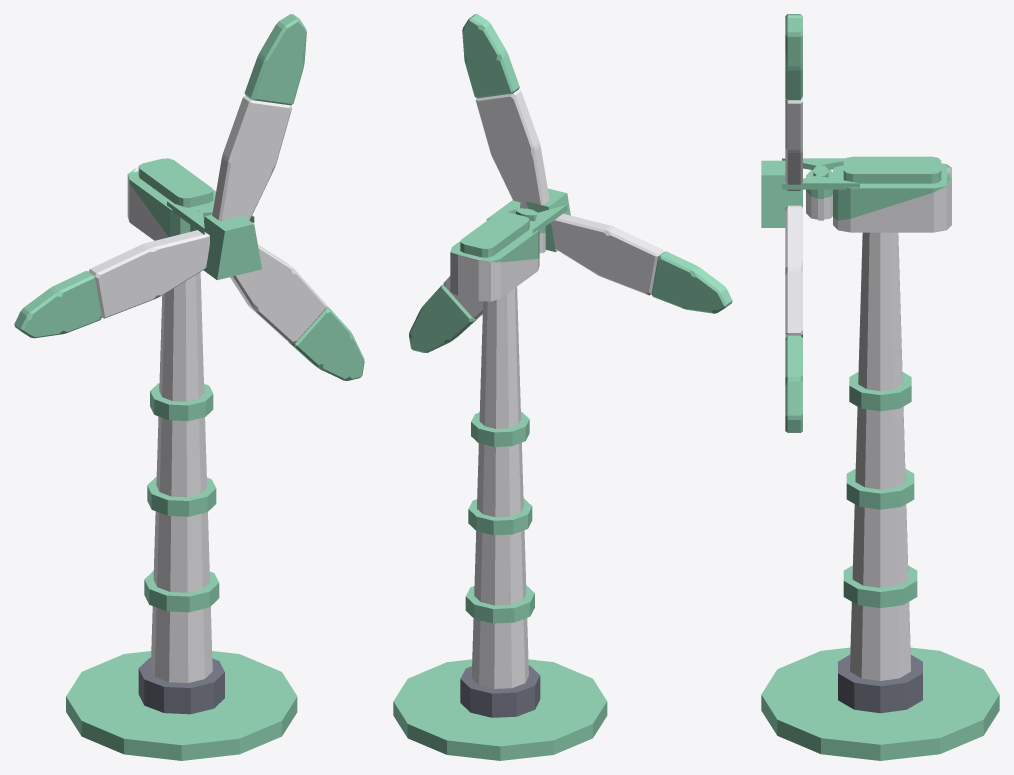
The model's file is windturbine-1x1-t3-tone-a.glb.
The picture shows the model from 3 angles, left to right: view 1: azimuth 30°, elevation 25°; view 2: azimuth 150°, elevation 25°; view 3: azimuth 270°, elevation 25°; orthographic projection. The views are drawn at different scales.
Parts seen in each view (by area): view 1: windturbine-1x1-t3-tone-a; view 2: windturbine-1x1-t3-tone-a; view 3: windturbine-1x1-t3-tone-a.
Part boxes in pixels (box(x1,y1,x2,y2)): windturbine-1x1-t3-tone-a: box(14, 14, 364, 760); windturbine-1x1-t3-tone-a: box(393, 14, 732, 760); windturbine-1x1-t3-tone-a: box(761, 14, 999, 760).
Size of the model in its own units: 0.6865 by 1.35 by 0.4.
1 material, 1 textured.
